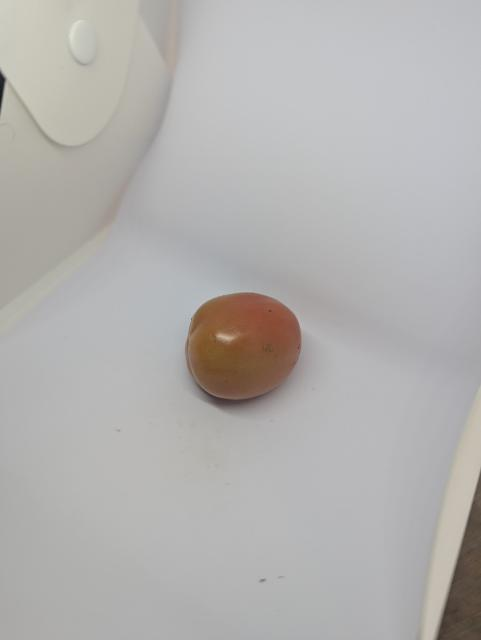turning: (179, 289, 309, 408)
